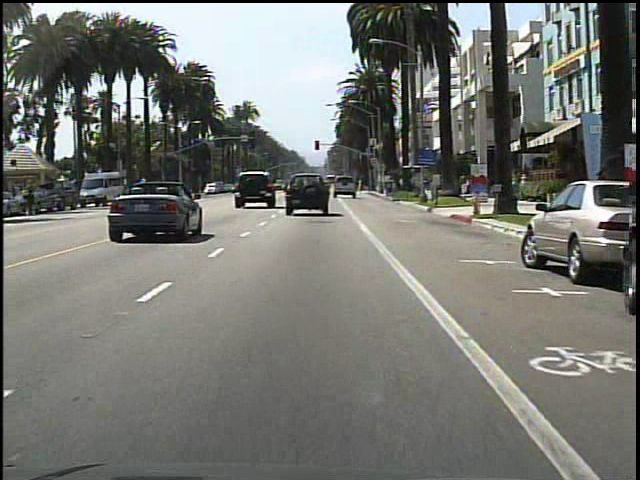person: (26, 177, 42, 219)
